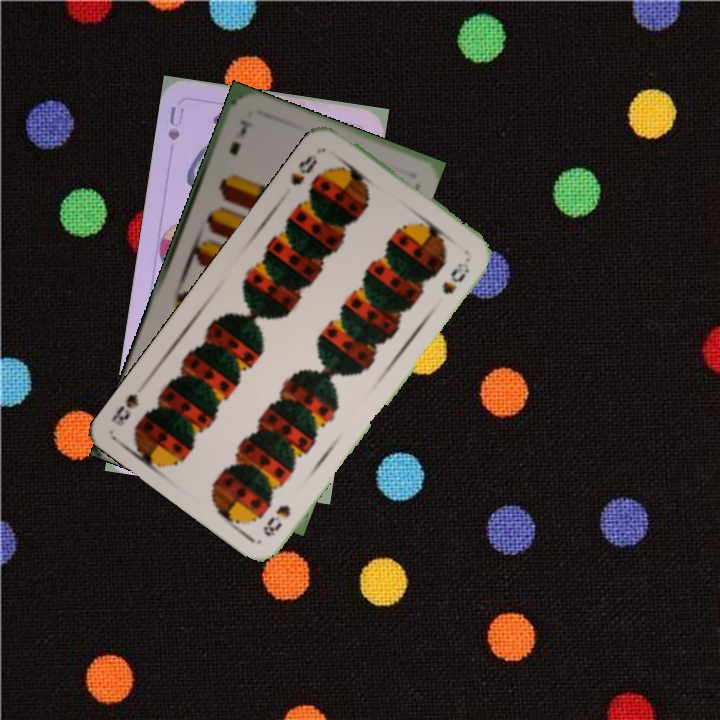E7: (225, 115, 253, 158)
S8: (259, 500, 294, 540), (286, 150, 320, 188)
SU: (163, 102, 187, 143)
